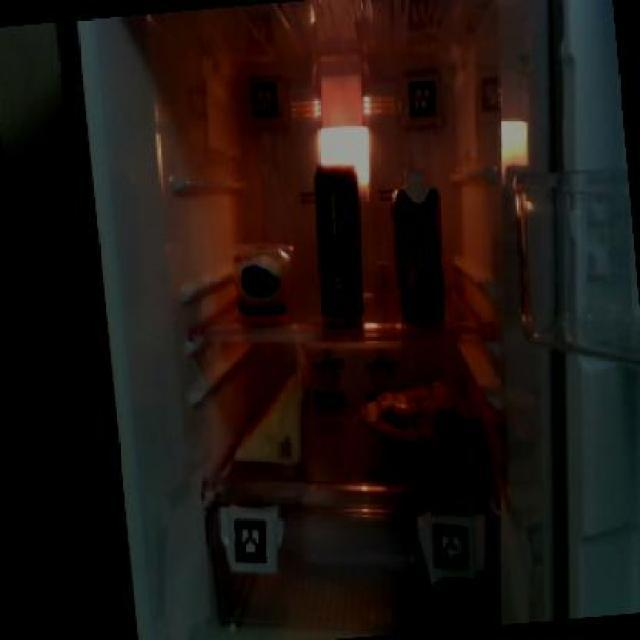bento: (354, 384, 484, 470)
energy_drink: (306, 160, 372, 328)
pudding: (228, 234, 298, 318)
sandwich: (227, 360, 316, 474)
smoothie: (385, 165, 450, 322)
